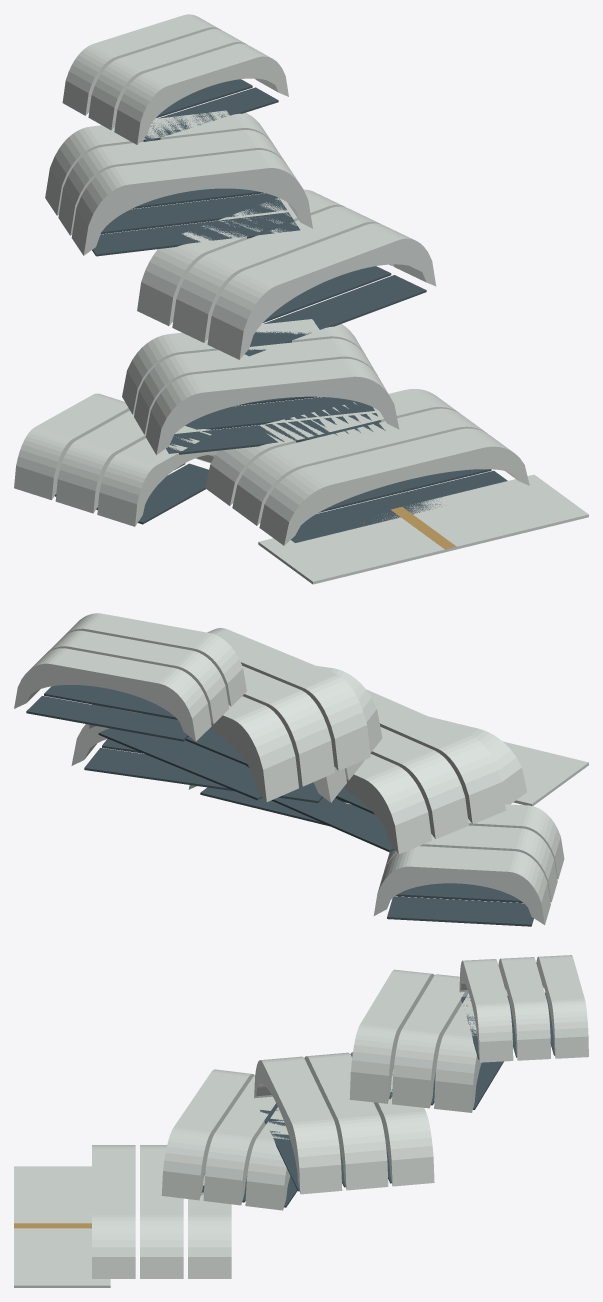
File: study.glb
The picture shows the model from 3 angles, top to bottom: view 1: azimuth 30°, elevation 25°; view 2: azimuth 150°, elevation 25°; view 3: azimuth 270°, elevation 25°; orthographic projection. The views are drawn at different scales.
Visible parts, largest first — view 1: GROUND ARRIVAL / 0m, A0 Arrival Forum roof/ground bay 0, A2 Thousandlight Court roof/ground bay 0, A3 High Civic Commons roof/ground bay 0, A1 Library Market roof/ground bay 0, A0 Arrival Forum roof/ground bay 1, A2 Thousandlight Court roof/ground bay 1, A4 School Culture Ground roof/ground bay 0, A3 High Civic Commons roof/ground bay 1, A1 Library Market roof/ground bay 1, A_West Ground Archive roof/ground bay 2, A2 Thousandlight Court roof/ground bay 2 (+19 smaller); view 2: A4 School Culture Ground roof/ground bay 2, A_West Ground Archive roof/ground bay 2, A3 High Civic Commons roof/ground bay 0, A1 Library Market roof/ground bay 0, A3 High Civic Commons roof/ground bay 2, A1 Library Market roof/ground bay 2, A3 High Civic Commons roof/ground bay 1, A1 Library Market roof/ground bay 1, A4 School Culture Ground roof/ground bay 0, A4 School Culture Ground roof/ground bay 1, A3 High Civic Commons public floor 2, A_West Ground Archive public floor 2 (+13 smaller); view 3: GROUND ARRIVAL / 0m, A2 Thousandlight Court roof/ground bay 0, A0 Arrival Forum roof/ground bay 0, A2 Thousandlight Court roof/ground bay 1, A3 High Civic Commons roof/ground bay 0, A1 Library Market roof/ground bay 0, A3 High Civic Commons roof/ground bay 1, A0 Arrival Forum roof/ground bay 1, A1 Library Market roof/ground bay 1, A4 School Culture Ground roof/ground bay 0, A4 School Culture Ground roof/ground bay 2, A3 High Civic Commons roof/ground bay 2 (+7 smaller).
Part boxes in pixels (x1=…): GROUND ARRIVAL / 0m: x1=258, y1=474, x2=588, y2=584; A0 Arrival Forum roof/ground bay 0: x1=259, y1=428, x2=529, y2=545; A2 Thousandlight Court roof/ground bay 0: x1=207, y1=223, x2=436, y2=359; A3 High Civic Commons roof/ground bay 0: x1=71, y1=150, x2=312, y2=255; A1 Library Market roof/ground bay 0: x1=145, y1=358, x2=399, y2=454; A0 Arrival Forum roof/ground bay 1: x1=232, y1=408, x2=487, y2=525; A2 Thousandlight Court roof/ground bay 1: x1=172, y1=206, x2=394, y2=342; A4 School Culture Ground roof/ground bay 0: x1=114, y1=43, x2=288, y2=144; A3 High Civic Commons roof/ground bay 1: x1=58, y1=130, x2=287, y2=235; A1 Library Market roof/ground bay 1: x1=134, y1=338, x2=377, y2=434; A_West Ground Archive roof/ground bay 2: x1=14, y1=393, x2=129, y2=500; A2 Thousandlight Court roof/ground bay 2: x1=137, y1=189, x2=345, y2=325; A4 School Culture Ground roof/ground bay 2: x1=14, y1=648, x2=211, y2=741; A_West Ground Archive roof/ground bay 2: x1=373, y1=846, x2=550, y2=924; A3 High Civic Commons roof/ground bay 0: x1=207, y1=628, x2=370, y2=771; A1 Library Market roof/ground bay 0: x1=366, y1=689, x2=505, y2=823; A3 High Civic Commons roof/ground bay 2: x1=89, y1=696, x2=298, y2=801; A1 Library Market roof/ground bay 2: x1=343, y1=753, x2=431, y2=853; A3 High Civic Commons roof/ground bay 1: x1=242, y1=666, x2=334, y2=786; A1 Library Market roof/ground bay 1: x1=370, y1=727, x2=468, y2=838; A4 School Culture Ground roof/ground bay 0: x1=63, y1=613, x2=246, y2=706; A4 School Culture Ground roof/ground bay 1: x1=45, y1=630, x2=229, y2=724; A3 High Civic Commons public floor 2: x1=98, y1=728, x2=262, y2=800; A_West Ground Archive public floor 2: x1=387, y1=896, x2=533, y2=926; GROUND ARRIVAL / 0m: x1=14, y1=1166, x2=110, y2=1287; A2 Thousandlight Court roof/ground bay 0: x1=254, y1=1056, x2=342, y2=1194; A0 Arrival Forum roof/ground bay 0: x1=92, y1=1145, x2=135, y2=1278; A2 Thousandlight Court roof/ground bay 1: x1=304, y1=1052, x2=388, y2=1190; A3 High Civic Commons roof/ground bay 0: x1=349, y1=969, x2=434, y2=1103; A1 Library Market roof/ground bay 0: x1=161, y1=1069, x2=254, y2=1200; A3 High Civic Commons roof/ground bay 1: x1=392, y1=974, x2=468, y2=1108; A0 Arrival Forum roof/ground bay 1: x1=140, y1=1145, x2=183, y2=1278; A1 Library Market roof/ground bay 1: x1=203, y1=1075, x2=275, y2=1205; A4 School Culture Ground roof/ground bay 0: x1=459, y1=959, x2=513, y2=1062; A4 School Culture Ground roof/ground bay 2: x1=536, y1=955, x2=588, y2=1058; A3 High Civic Commons roof/ground bay 2: x1=434, y1=990, x2=507, y2=1112.
Size of the model in its own units: 3146 by 2080 by 4282.
